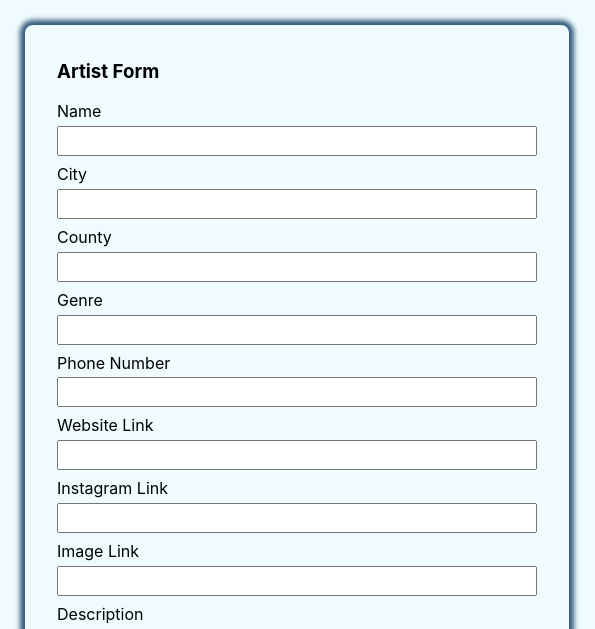
Test: <CreateArtist /> › displays error message when special character is entered in phone field
The image size is (595, 629).
Type "djd8327b" into the field with test id "artist-phone-input" at [297, 392], box [57,377,537,407]
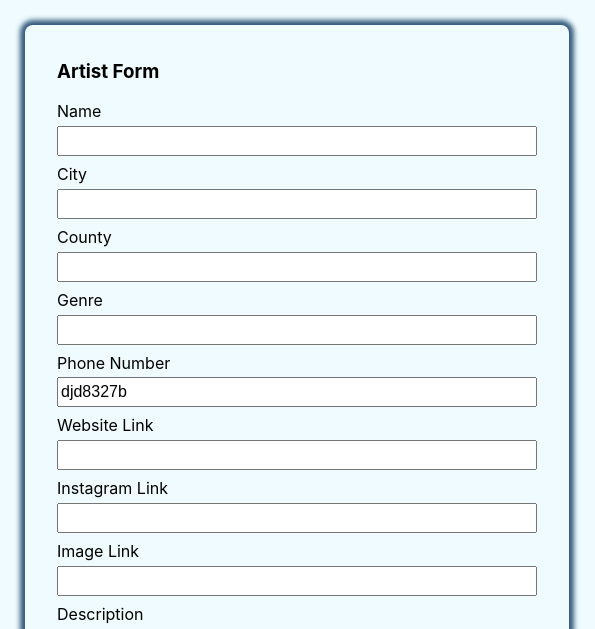
Leave the field with test id "artist-phone-input", box [57,377,537,407]
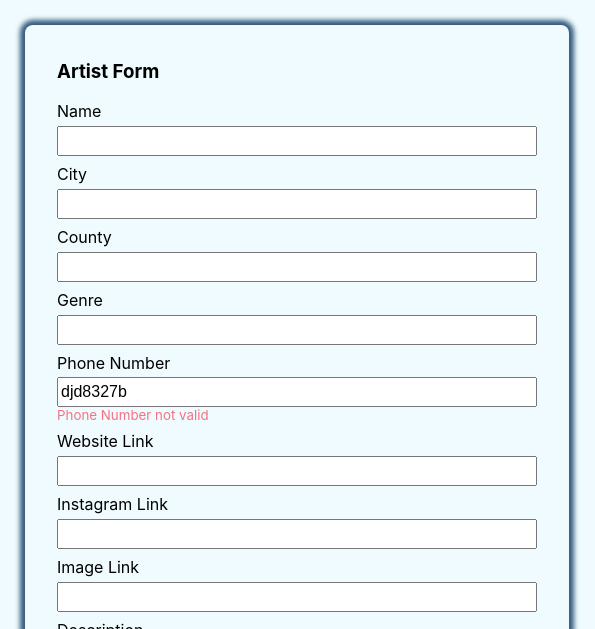
Expected: the text with test id "artist-phone-input-error" reads "Phone Number not valid", [57,407,209,423]
